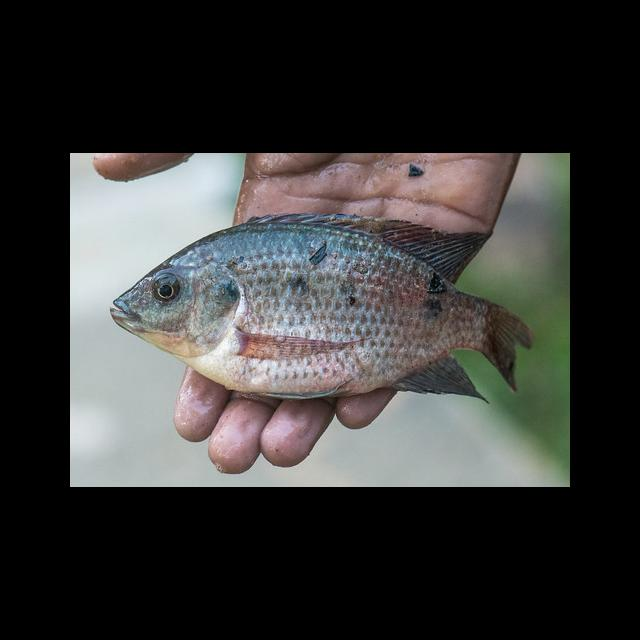fish: (110, 216, 530, 404)
